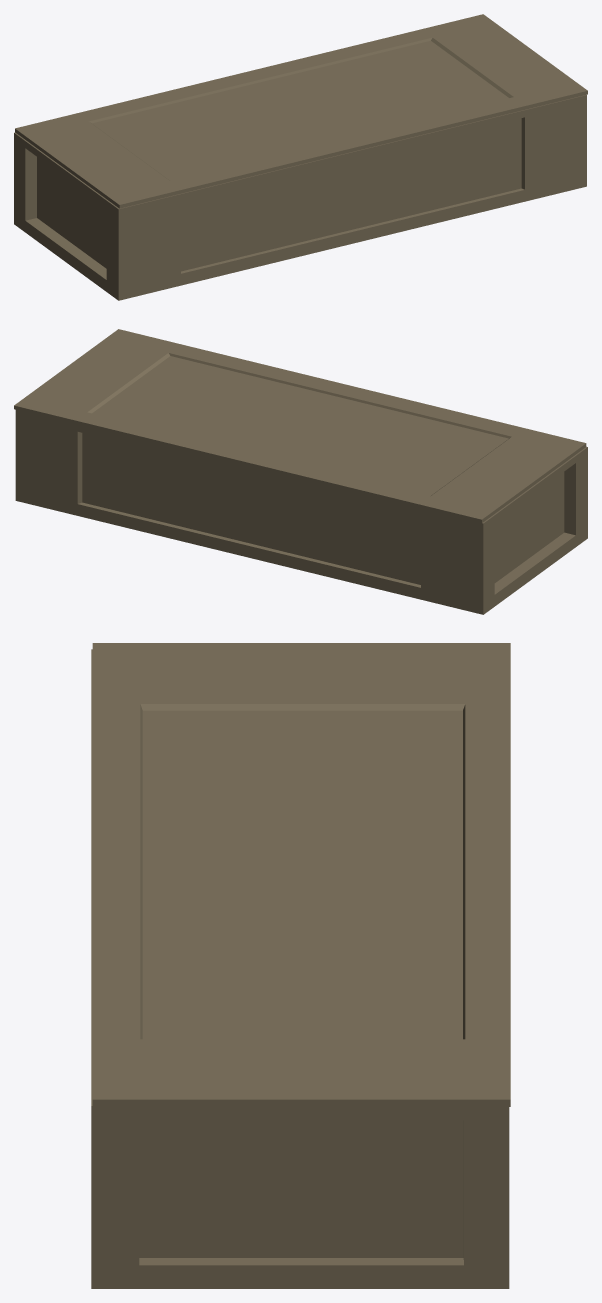
The model's file is Crate_Wood_Long.fbx.
The picture shows the model from 3 angles, top to bottom: view 1: azimuth 30°, elevation 25°; view 2: azimuth 150°, elevation 25°; view 3: azimuth 270°, elevation 25°; orthographic projection. The views are drawn at different scales.
Parts seen in each view (by area): view 1: Crate, Lid; view 2: Crate, Lid; view 3: Lid, Crate.
Part boxes in pixels (<box>): Crate: <box>14,95,586,300</box>; Lid: <box>15,14,587,208</box>; Crate: <box>15,410,587,614</box>; Lid: <box>14,329,586,523</box>; Lid: <box>92,643,510,1106</box>; Crate: <box>91,649,509,1288</box>.
Size of the model in its own units: 1.56 by 0.3027 by 0.6046.
